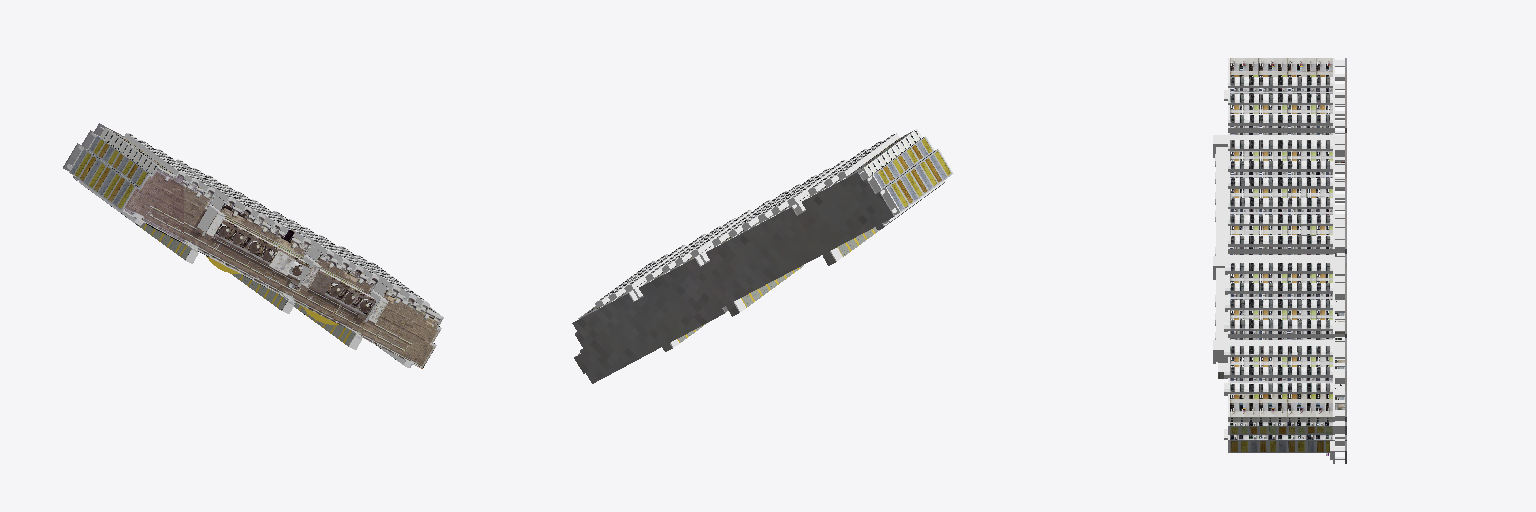
3 views of the same model, side by side, from view 1: azimuth 30°, elevation 25°; view 2: azimuth 150°, elevation 25°; view 3: azimuth 270°, elevation 25° (orthographic).
Visible parts, largest first — view 1: polygon.015; view 2: polygon.015; view 3: polygon.015.
Boxes of the visible parts, <box> form: polygon.015: <box>63,123,443,368</box>; polygon.015: <box>572,129,953,383</box>; polygon.015: <box>1213,58,1346,463</box>.
Bounding box in the file's own units: 106 × 86.48 × 38.05.
Materials: 1 (1 with a texture image).